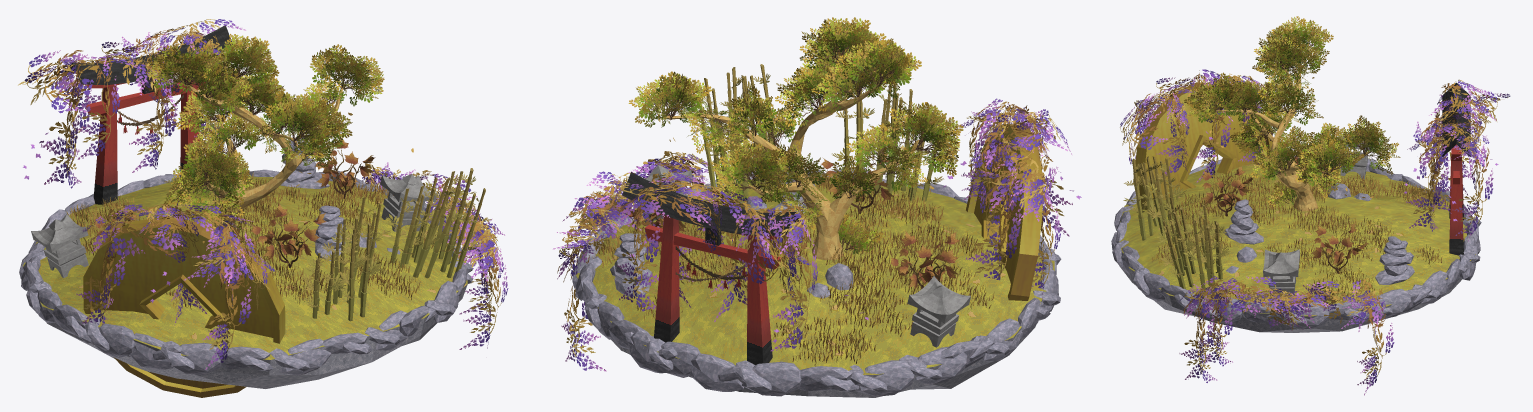
Rendered from low_poly_bonsai_garden.glb.
The picture shows the model from 3 angles, left to right: view 1: azimuth 30°, elevation 25°; view 2: azimuth 150°, elevation 25°; view 3: azimuth 270°, elevation 25°; orthographic projection. The views are drawn at different scales.
Visible parts, largest first — view 1: Icosphere, Cylinder.001, Plane.109, Plane.075, Cube, Plane.112, Plane.114, Cylinder, Plane.128, Lantern.001, Lantern, Plane.122 (+66 smaller); view 2: Icosphere, Cube, Plane.075, Plane.109, Cylinder.001, Cylinder, Plane.111, Plane.114, Lantern.001, Plane.129, Plane.121, Cube.023 (+77 smaller); view 3: Icosphere, Cylinder.001, Plane.075, Plane.109, Cube, Cylinder, Plane.121, Plane.110, Plane.128, Plane.129, Plane.126, Lantern (+69 smaller).
Part boxes in pixels (bbox=[...]): Icosphere: bbox=[23, 176, 467, 388]; Cylinder.001: bbox=[83, 216, 285, 397]; Plane.109: bbox=[76, 198, 274, 325]; Plane.075: bbox=[18, 19, 245, 172]; Cube: bbox=[64, 25, 232, 204]; Plane.112: bbox=[183, 229, 251, 369]; Plane.114: bbox=[41, 56, 121, 188]; Cylinder: bbox=[183, 73, 344, 236]; Plane.128: bbox=[459, 217, 508, 349]; Lantern.001: bbox=[31, 214, 88, 277]; Lantern: bbox=[380, 174, 437, 231]; Plane.122: bbox=[250, 203, 326, 267]; Icosphere: bbox=[576, 176, 1054, 397]; Cube: bbox=[622, 172, 802, 364]; Plane.075: bbox=[606, 174, 810, 321]; Plane.109: bbox=[967, 103, 1060, 300]; Cylinder.001: bbox=[966, 124, 1042, 300]; Cylinder: bbox=[664, 60, 919, 259]; Plane.111: bbox=[961, 153, 1032, 280]; Plane.114: bbox=[736, 203, 817, 351]; Lantern.001: bbox=[907, 276, 970, 347]; Plane.129: bbox=[562, 171, 650, 251]; Plane.121: bbox=[557, 233, 609, 371]; Cube.023: bbox=[735, 360, 801, 396]; Icosphere: bbox=[1119, 160, 1475, 332]; Cylinder.001: bbox=[1133, 82, 1272, 209]; Plane.075: bbox=[1412, 88, 1510, 241]; Plane.109: bbox=[1120, 69, 1264, 182]; Cube: bbox=[1442, 82, 1470, 255]; Cylinder: bbox=[1216, 66, 1370, 211]; Plane.121: bbox=[1341, 278, 1394, 395]; Plane.110: bbox=[1406, 124, 1459, 231]; Plane.128: bbox=[1179, 276, 1222, 382]; Plane.129: bbox=[1226, 283, 1342, 323]; Plane.126: bbox=[1267, 280, 1382, 330]; Lantern: bbox=[1263, 249, 1299, 296].
Bounding box in the file's own units: 27.97 × 21.06 × 27.77.
80 materials, 80 textured.
